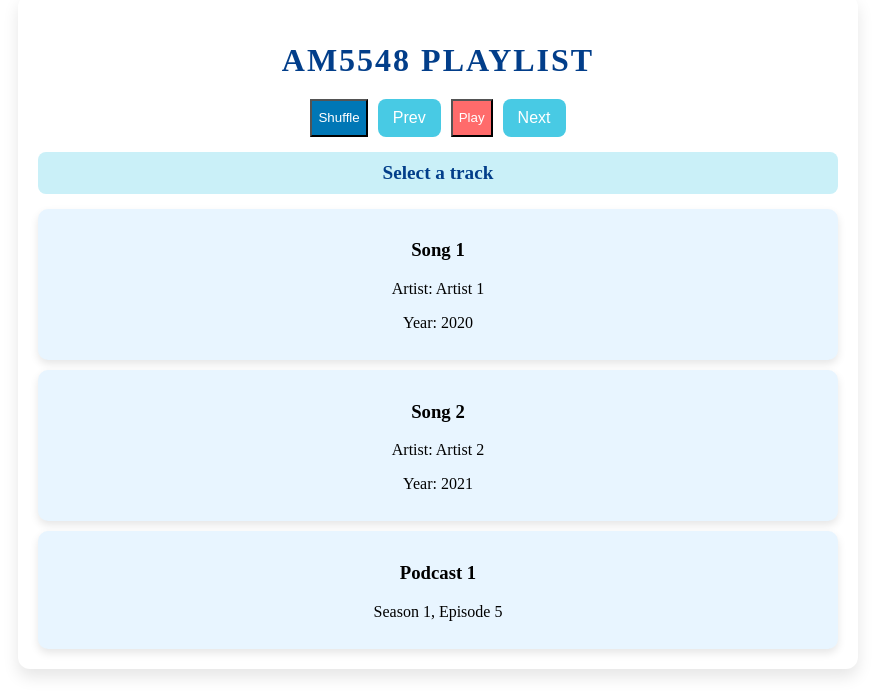
Playlist Component › loops to last track when Prev is clicked at first track
The width and height of the screenshot is (877, 696).
Double-click the heading "Song 1": (438, 250) 411,239 -> 465,260
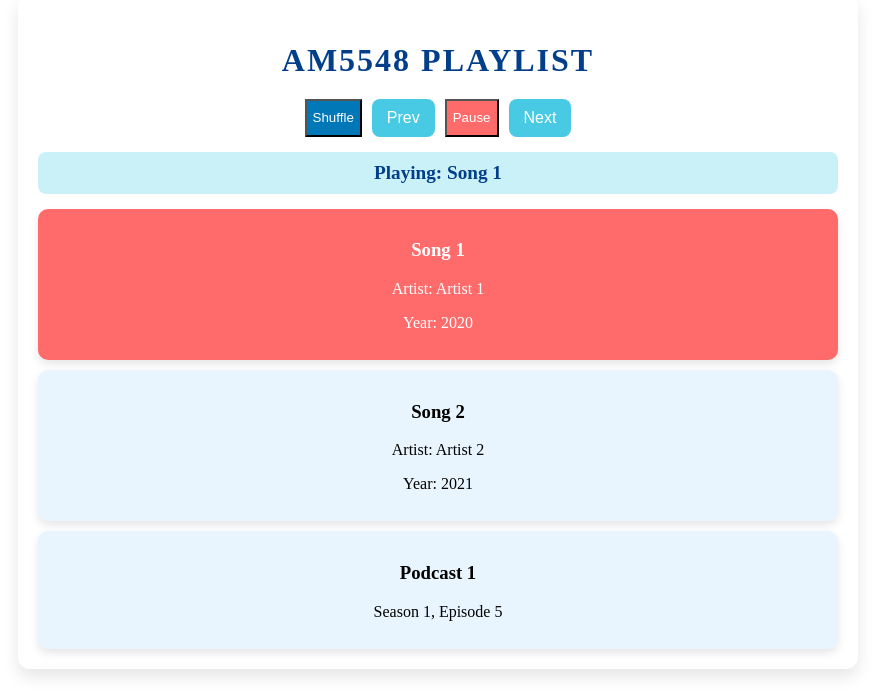
Now the text "Playing: Song 1" is shown, box 38,152 -> 838,194
Click the button "Prev": (403, 118) 372,98 -> 435,136
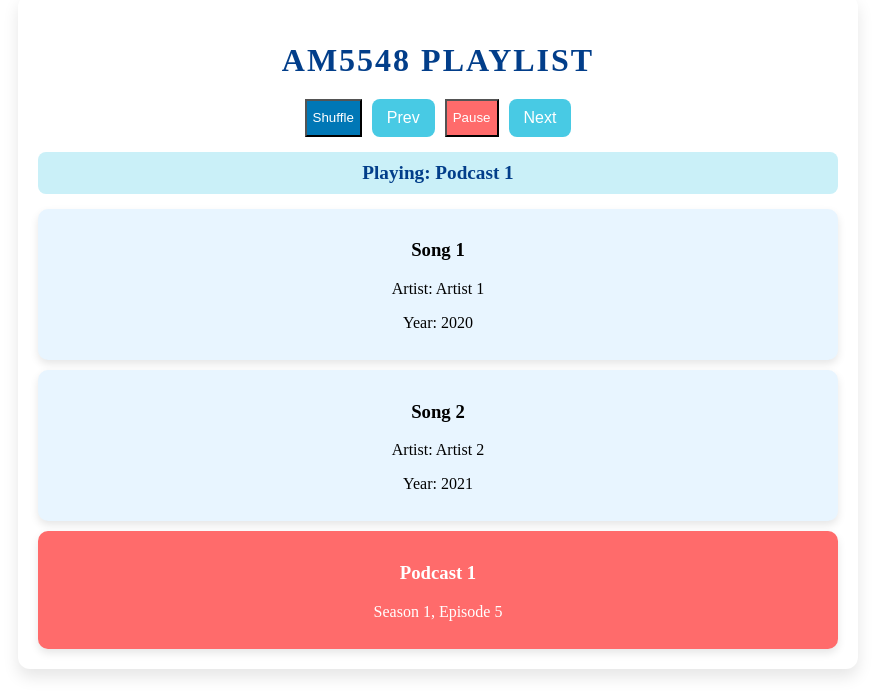
Now the text "Playing: Podcast 1" is shown, box 38,152 -> 838,194
